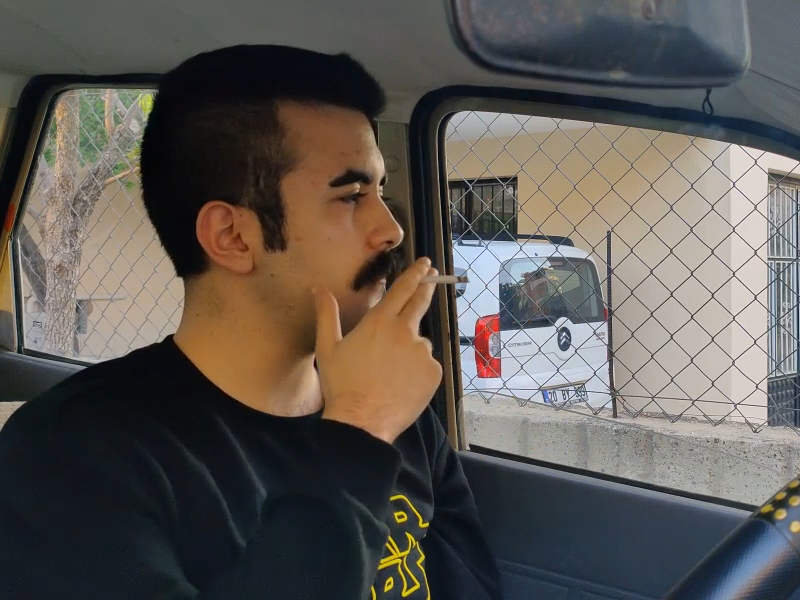sigara: (416, 272, 473, 285)
